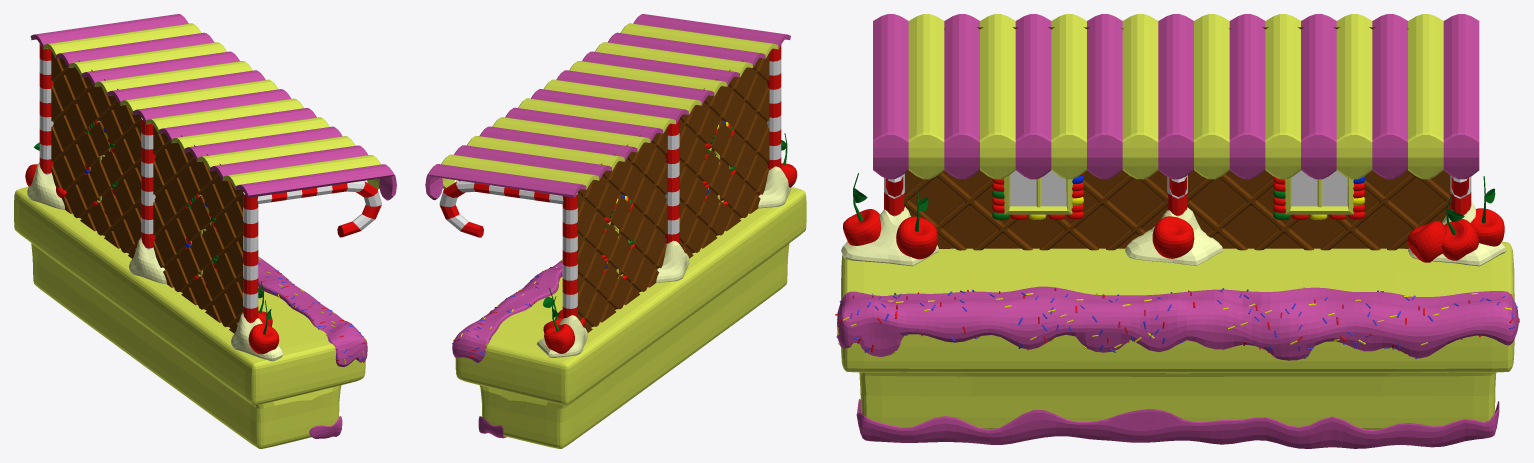
Rendered from tren_istasyonu_candy.fbx.
3 views of the same model, side by side, from view 1: azimuth 30°, elevation 25°; view 2: azimuth 150°, elevation 25°; view 3: azimuth 270°, elevation 25° (orthographic). The views are drawn at different scales.
Visible parts, largest first — view 1: Cube.002, Plane.002, Plane.006, Plane.003, Cube.001, Cylinder, Torus, Cylinder.001, Cylinder.002, Sphere.003, Sphere.006, Sphere (+2 smaller); view 2: Cube.002, Plane.002, Plane.003, Plane.006, Cube.001, Torus.002, Cylinder.002, Cylinder, Cylinder.001, Sphere.003, Sphere, Sphere.006 (+1 smaller); view 3: Plane.002, Cube.002, Cube.001, Cube.003, Plane.006, Plane.003, Sphere.003, Sphere, Cylinder.006, Cylinder.004, Sphere.005, Sphere.002 (+9 smaller).
Boxes of the visible parts, x1,y1,x2,y2 form: Cube.002: (14, 186, 365, 448); Plane.002: (30, 14, 396, 200); Plane.006: (51, 51, 141, 258); Plane.003: (153, 126, 243, 333); Cube.001: (258, 257, 367, 366); Cylinder: (243, 192, 258, 323); Torus: (257, 181, 381, 237); Cylinder.001: (141, 118, 155, 249); Cylinder.002: (39, 44, 53, 175); Sphere.003: (129, 237, 166, 284); Sphere.006: (27, 162, 64, 209); Sphere: (231, 312, 283, 361); Cube.002: (455, 187, 806, 448); Plane.002: (425, 14, 790, 199); Plane.003: (679, 53, 769, 258); Plane.006: (577, 127, 667, 332); Cube.001: (452, 259, 562, 362); Torus.002: (439, 181, 563, 237); Cylinder.002: (562, 193, 577, 318); Cylinder: (767, 45, 781, 169); Cylinder.001: (665, 119, 679, 243); Sphere.003: (656, 240, 689, 282); Sphere: (758, 166, 791, 208); Sphere.006: (537, 315, 587, 357); Plane.002: (873, 14, 1479, 179); Cube.002: (841, 242, 1514, 430); Cube.001: (837, 286, 1518, 360); Cube.003: (856, 399, 1499, 448); Plane.006: (1187, 27, 1451, 250); Plane.003: (904, 27, 1168, 250); Sphere.003: (1125, 207, 1223, 265); Sphere: (841, 207, 939, 266); Cylinder.006: (1291, 170, 1347, 206); Cylinder.004: (1010, 170, 1066, 206); Sphere.005: (1152, 216, 1194, 258); Sphere.002: (896, 216, 937, 259).
Bounding box in the file's own units: 267 × 442 × 729.
